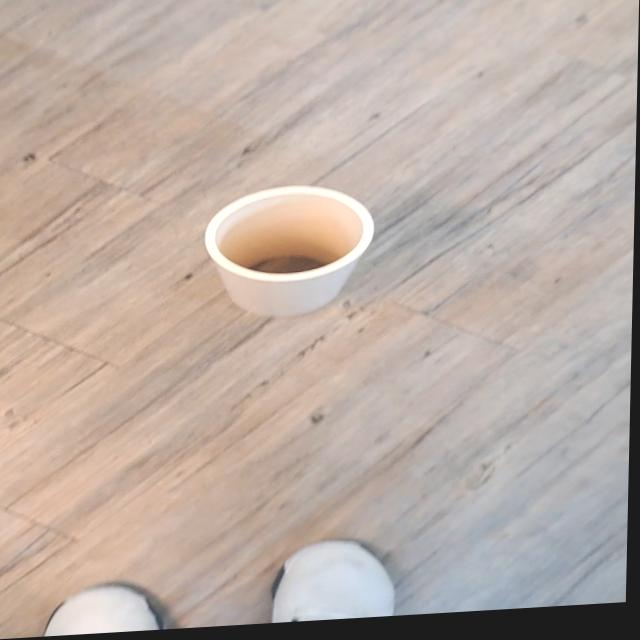CORAL: (174, 171, 405, 345)
